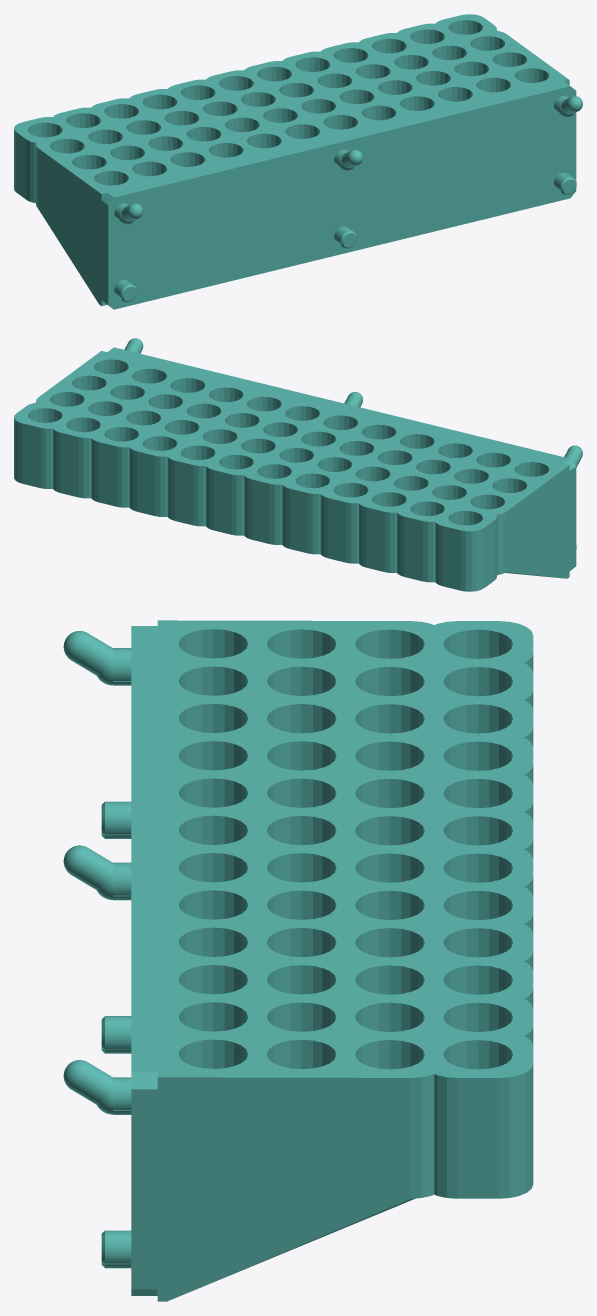
3 views of the same model, one above another, from view 1: azimuth 30°, elevation 25°; view 2: azimuth 150°, elevation 25°; view 3: azimuth 270°, elevation 25° (orthographic). The views are drawn at different scales.
Visible parts, largest first — view 1: Actual holder mesh; view 2: Actual holder mesh; view 3: Actual holder mesh.
Part boxes in pixels (x1=…): Actual holder mesh: x1=14, y1=14, x2=582, y2=309; Actual holder mesh: x1=14, y1=338, x2=582, y2=591; Actual holder mesh: x1=63, y1=620, x2=533, y2=1301.
Size of the model in its own units: 0.1623 by 0.0374 by 0.0705.
